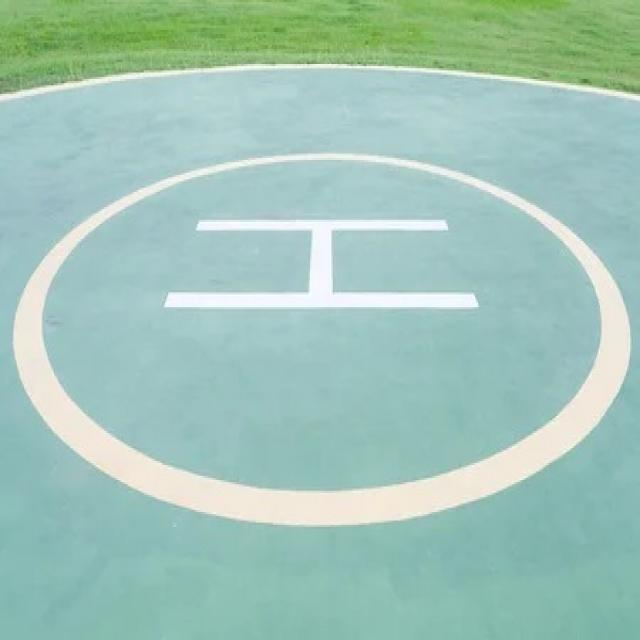helipad: (4, 141, 636, 533)
